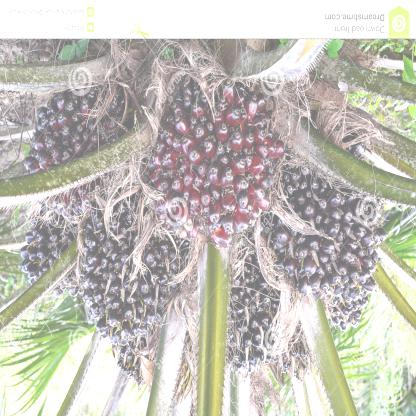1: (142, 82, 286, 250), (26, 83, 123, 178)
palm-oil: (271, 166, 385, 289), (77, 219, 189, 342), (222, 270, 278, 370), (19, 224, 79, 299), (101, 332, 165, 389), (330, 284, 382, 336), (278, 338, 314, 382)
